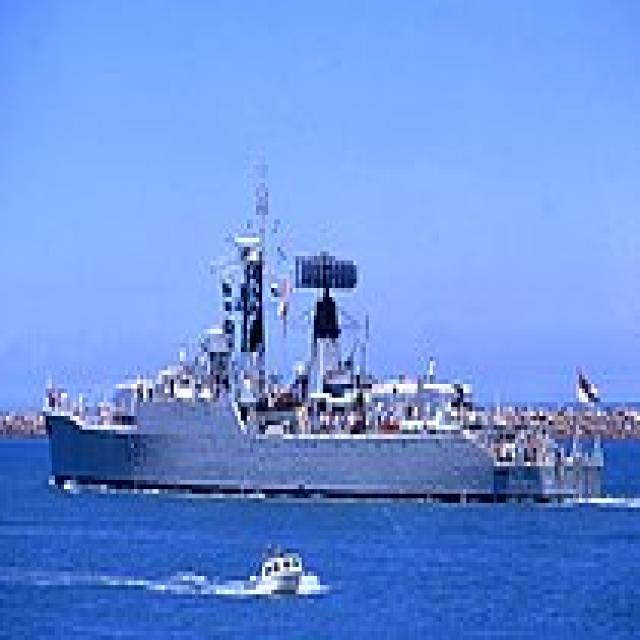Warship: (31, 156, 606, 498)
